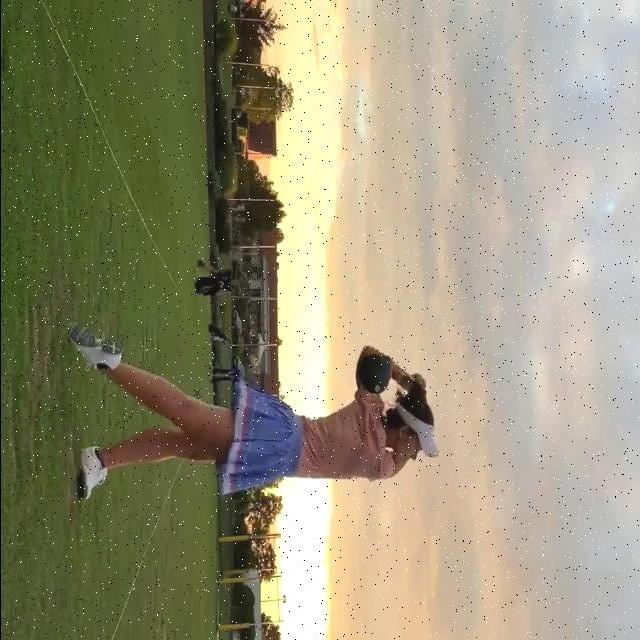golf club-handle: (358, 354, 411, 395)
golf club-head: (358, 355, 393, 395)
